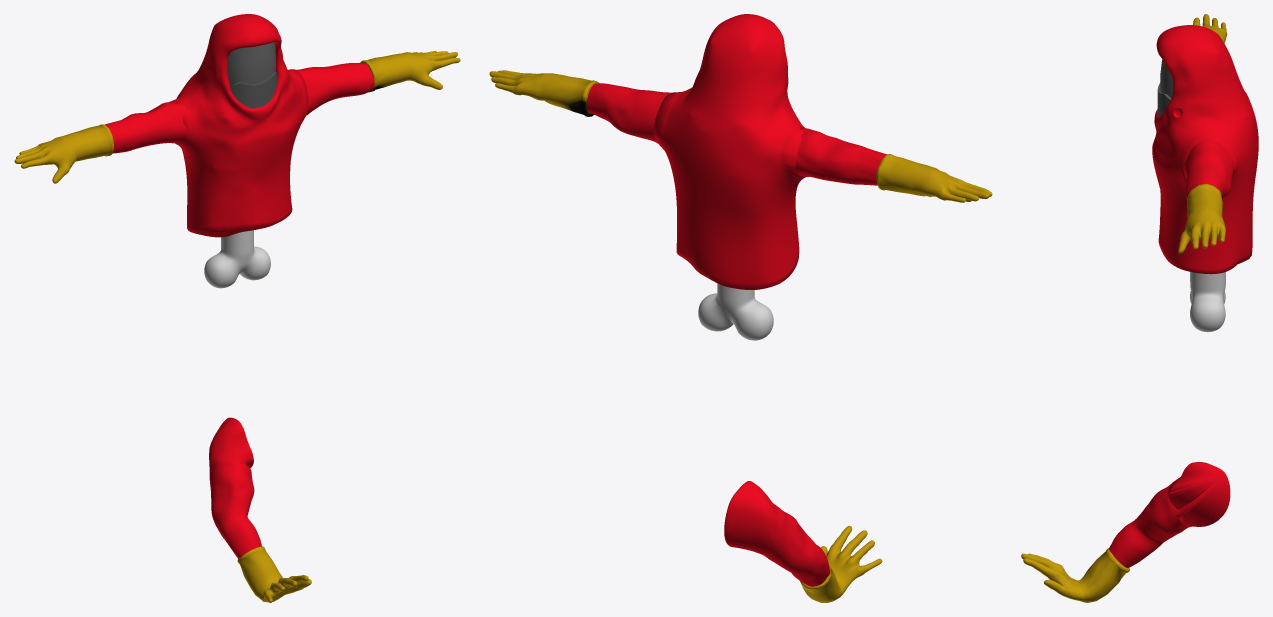
The model's file is finallll One Arm.fbx.
3 renders of one model, left to right at view 1: azimuth 30°, elevation 25°; view 2: azimuth 150°, elevation 25°; view 3: azimuth 270°, elevation 25°, orthographic. The views are drawn at different scales.
Visible parts, largest first — view 1: Without Legs.003, Without Legs.002, Without Legs.001, Without Legs.008, Without Legs.009; view 2: Without Legs.003, Without Legs.001, Without Legs.002, Without Legs.008, Without Legs.009; view 3: Without Legs.003, Without Legs.008, Without Legs.009, Without Legs.002, Without Legs.001.
Part boxes in pixels (bbox=[...]): Without Legs.003: bbox=[170, 14, 308, 288]; Without Legs.002: bbox=[14, 51, 460, 183]; Without Legs.001: bbox=[105, 63, 374, 153]; Without Legs.008: bbox=[209, 417, 261, 558]; Without Legs.009: bbox=[237, 546, 311, 602]; Without Legs.003: bbox=[653, 14, 805, 340]; Without Legs.001: bbox=[586, 83, 887, 185]; Without Legs.002: bbox=[489, 70, 992, 202]; Without Legs.008: bbox=[724, 481, 830, 586]; Without Legs.009: bbox=[800, 525, 882, 602]; Without Legs.003: bbox=[1152, 25, 1258, 332]; Without Legs.008: bbox=[1109, 462, 1230, 567]; Without Legs.009: bbox=[1021, 548, 1129, 602]; Without Legs.002: bbox=[1178, 14, 1227, 253]; Without Legs.001: bbox=[1183, 139, 1233, 202].
Bounding box in the file's own units: 232 × 272 × 100.
